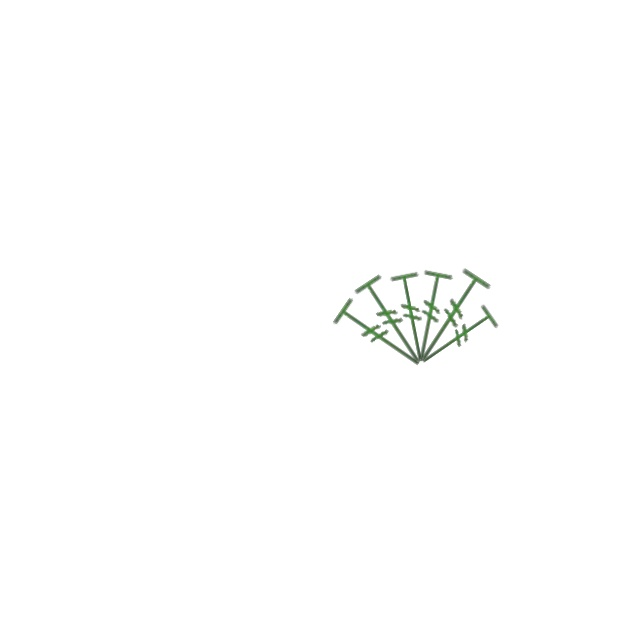fan: (405, 264, 497, 375), (329, 292, 433, 380), (351, 269, 438, 374), (413, 301, 503, 378), (404, 267, 458, 367), (387, 269, 439, 367)
